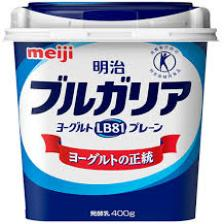plastic: (2, 1, 221, 219)
